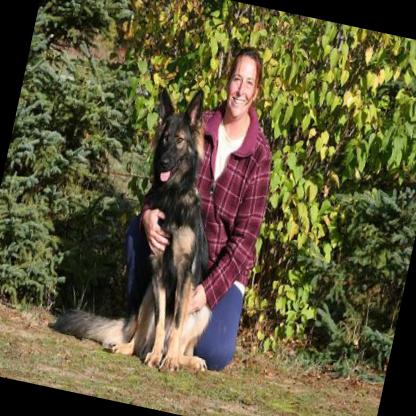German_shepherd: (49, 66, 263, 374)
